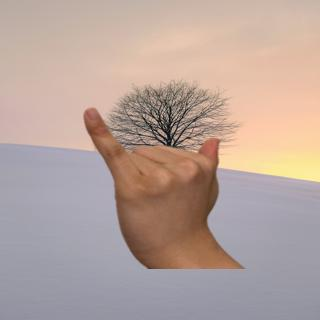HAVE: (70, 97, 238, 269)
